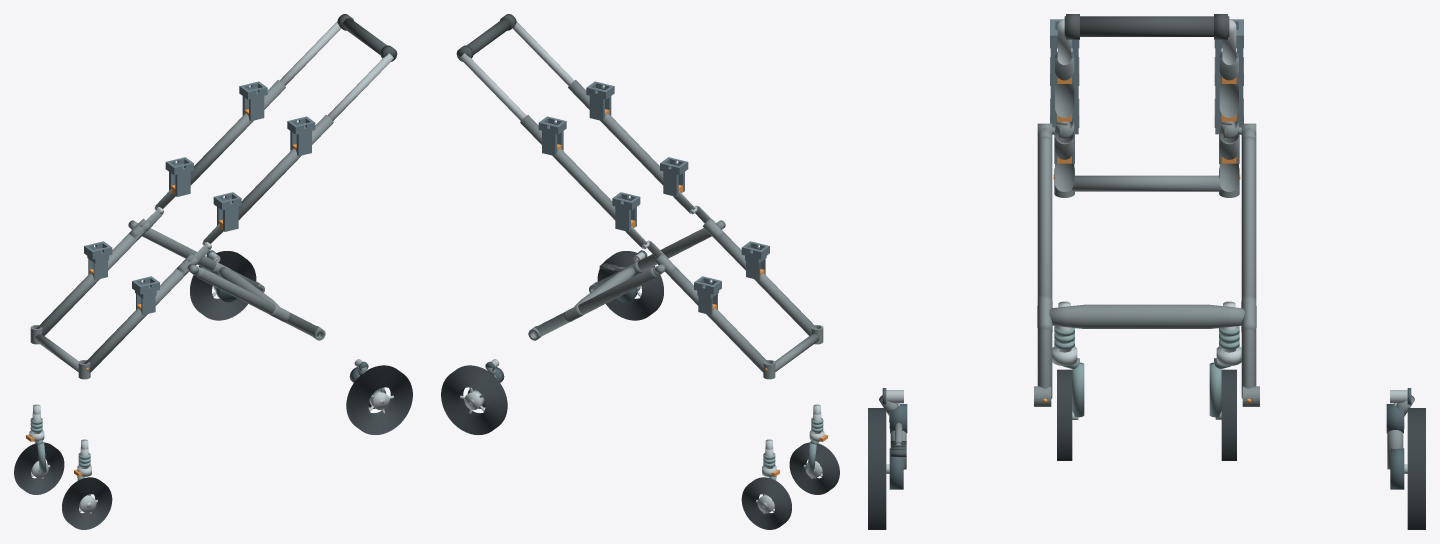
Rendered from w380_state4_wheel_S.glb.
3 renders of one model, left to right at view 1: azimuth 30°, elevation 25°; view 2: azimuth 150°, elevation 25°; view 3: azimuth 270°, elevation 25°, orthographic. The views are drawn at different scales.
Visible parts, largest first — view 1: RL_tire.001, RR_tire.001, FL_tire.001, FR_tire.001, V46_rear_leg_-1.003, main_lower_-1.003, main_lower_1.003, main_upper_1.003, main_upper_-1.003, V46_rear_leg_1.003, Universal_Cabin_Receiver_H_1, Universal_Cabin_Receiver_H_-1 (+9 smaller); view 2: RR_tire.001, RL_tire.001, FR_tire.001, FL_tire.001, V46_rear_leg_1.003, main_lower_1.003, main_lower_-1.003, main_upper_-1.003, main_upper_1.003, V46_rear_leg_-1.003, Universal_Cabin_Receiver_H_-1, Universal_Cabin_Receiver_H_1 (+9 smaller); view 3: V46_rearbar.003, V46_rear_leg_-1.003, V46_rear_leg_1.003, round_handle.001, front_fixed_round_tube.001, RL_tire.001, RR_tire.001, FL_tire.001, FR_tire.001, main_upper_1.003, main_upper_-1.003, main_lower_1.003 (+5 smaller).
Part boxes in pixels (left/top/right/bottom): RL_tire.001: left=346, top=365, right=412, bottom=434; RR_tire.001: left=190, top=251, right=256, bottom=320; FL_tire.001: left=62, top=477, right=112, bottom=529; FR_tire.001: left=14, top=442, right=64, bottom=494; V46_rear_leg_-1.003: left=196, top=267, right=319, bottom=336; main_lower_-1.003: left=84, top=268, right=187, bottom=372; main_lower_1.003: left=36, top=230, right=143, bottom=335; main_upper_1.003: left=190, top=80, right=285, bottom=185; main_upper_-1.003: left=238, top=115, right=333, bottom=220; V46_rear_leg_1.003: left=142, top=228, right=261, bottom=290; Universal_Cabin_Receiver_H_1: left=239, top=81, right=267, bottom=121; Universal_Cabin_Receiver_H_-1: left=287, top=116, right=315, bottom=156; RR_tire.001: left=441, top=365, right=507, bottom=434; RL_tire.001: left=597, top=251, right=663, bottom=320; FR_tire.001: left=741, top=477, right=791, bottom=529; FL_tire.001: left=789, top=442, right=839, bottom=494; V46_rear_leg_1.003: left=534, top=267, right=657, bottom=336; main_lower_1.003: left=666, top=268, right=769, bottom=372; main_lower_-1.003: left=710, top=230, right=817, bottom=335; main_upper_-1.003: left=568, top=80, right=663, bottom=185; main_upper_1.003: left=520, top=115, right=615, bottom=220; V46_rear_leg_-1.003: left=592, top=228, right=711, bottom=290; Universal_Cabin_Receiver_H_-1: left=586, top=81, right=614, bottom=121; Universal_Cabin_Receiver_H_1: left=538, top=116, right=566, bottom=156; V46_rearbar.003: left=1049, top=304, right=1244, bottom=328; V46_rear_leg_-1.003: left=1037, top=136, right=1052, bottom=398; V46_rear_leg_1.003: left=1241, top=136, right=1256, bottom=398; round_handle.001: left=1064, top=16, right=1229, bottom=36; front_fixed_round_tube.001: left=1072, top=175, right=1221, bottom=191; RL_tire.001: left=868, top=408, right=886, bottom=529; RR_tire.001: left=1407, top=408, right=1425, bottom=529; FL_tire.001: left=1057, top=369, right=1072, bottom=460; FR_tire.001: left=1221, top=369, right=1236, bottom=460; main_upper_1.003: left=1219, top=54, right=1238, bottom=117; main_upper_-1.003: left=1055, top=54, right=1074, bottom=117; main_lower_1.003: left=1219, top=132, right=1238, bottom=191.
Bounding box in the file's own units: 1.09 × 1.26 × 0.914.
